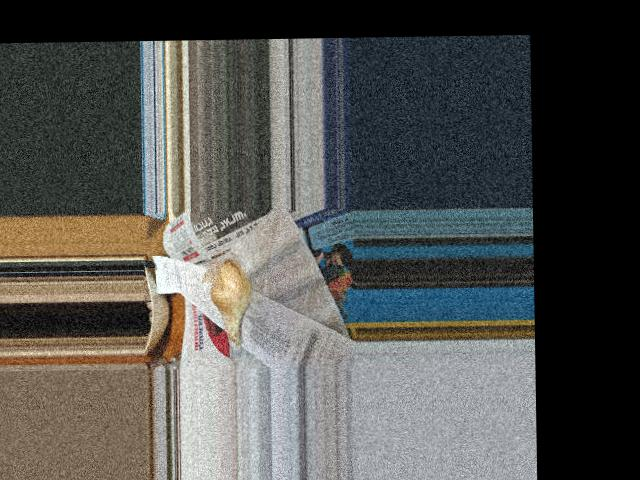onion: (210, 261, 255, 342)
